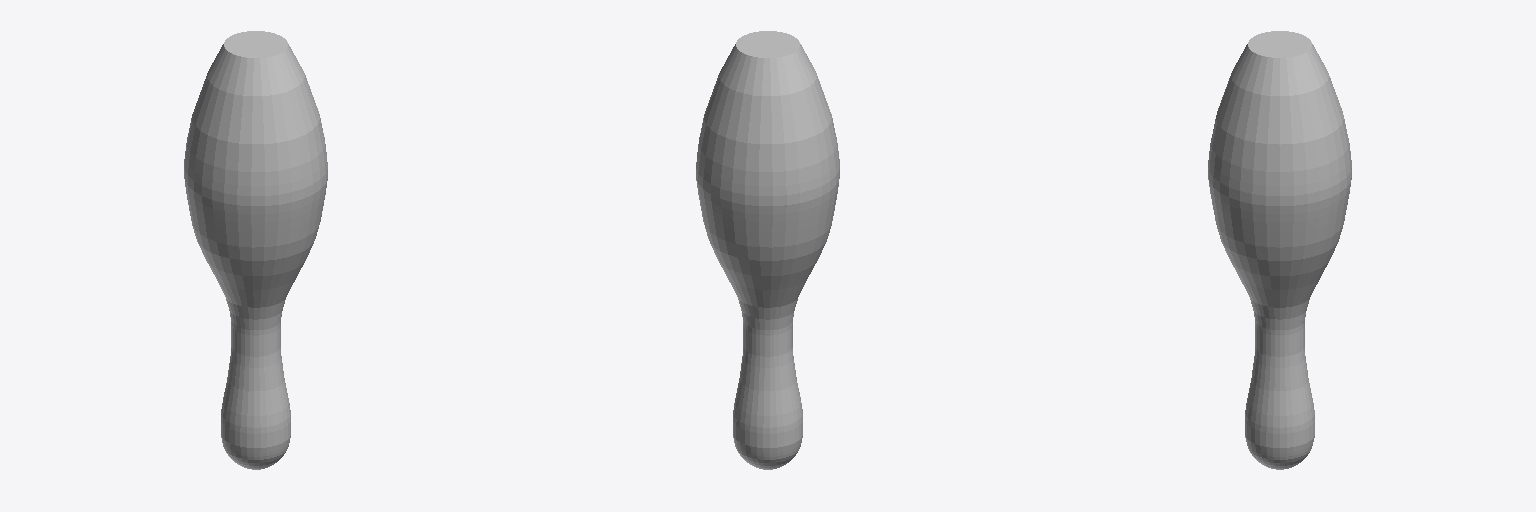
The model's file is bowlingPin5.obj.
3 views of the same model, side by side, from view 1: azimuth 30°, elevation 25°; view 2: azimuth 150°, elevation 25°; view 3: azimuth 270°, elevation 25° (orthographic).
Parts seen in each view (by area): view 1: Cone_Cone.001; view 2: Cone_Cone.001; view 3: Cone_Cone.001.
Boxes of the visible parts, <box> form: Cone_Cone.001: <box>184,31,327,469</box>; Cone_Cone.001: <box>696,31,839,469</box>; Cone_Cone.001: <box>1208,31,1351,469</box>.
Size of the model in its own units: 33.01 by 107 by 33.01.